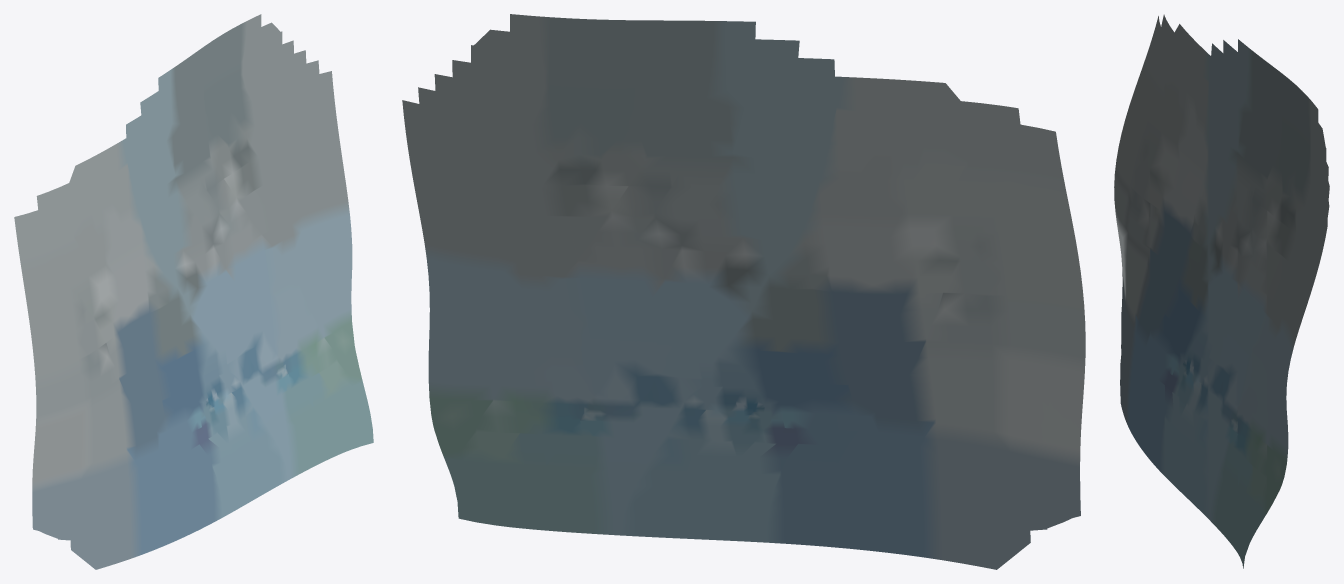
File: inst-d352eb_reconstructed.glb
3 renders of one model, left to right at view 1: azimuth 30°, elevation 25°; view 2: azimuth 150°, elevation 25°; view 3: azimuth 270°, elevation 25°, orthographic. The views are drawn at different scales.
Size of the model in its own units: 0.6952 by 0.6952 by 0.3207.
